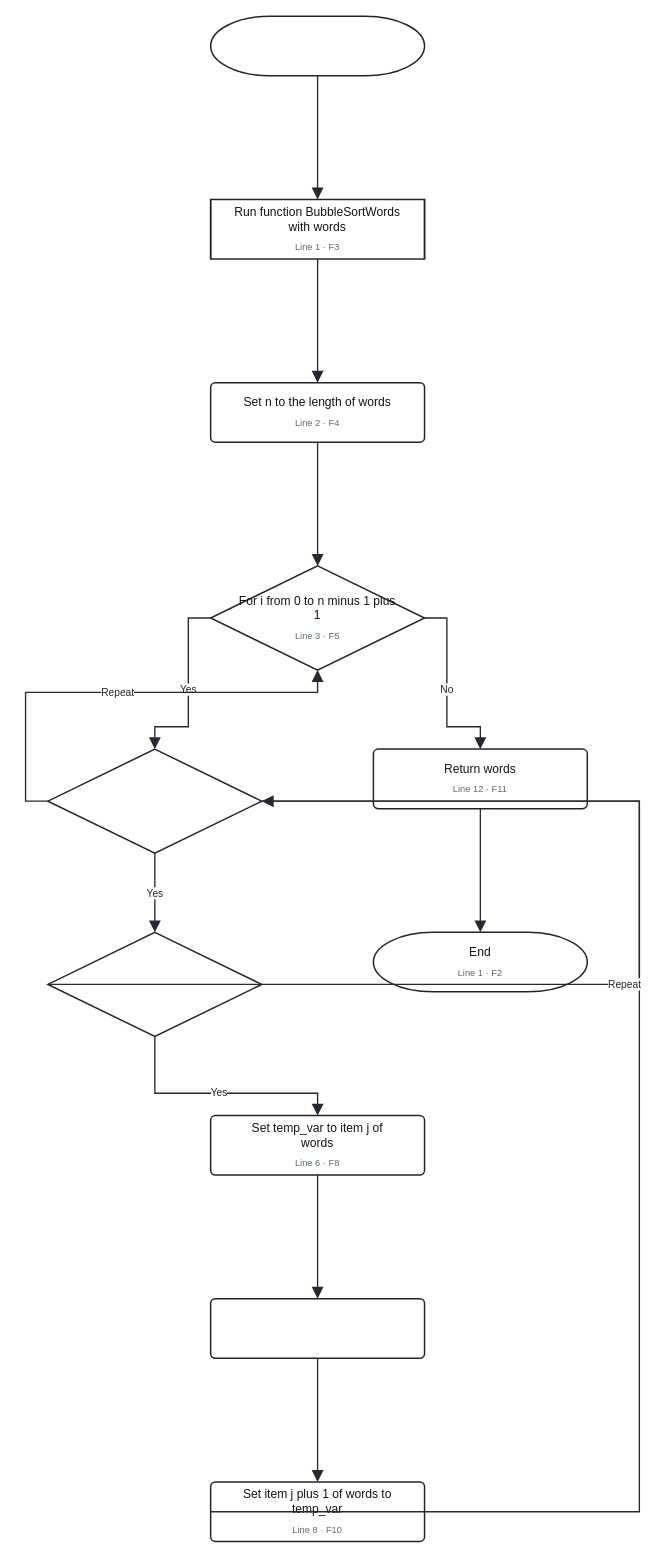
This 672x1559 diagram has some shape labels left out. The shapes that lost their labels are listed below. From the top down, each one's centre as x and y in pixels, then its label:
the point at 317,45: Start Line 1 · F1
the point at 154,801: For j from 0 to n minus i minus 2 plus 1 Line 4 · F6
the point at 154,984: Item j of words is greater than item j plus 1 of words? Line 5 · F7
the point at 317,1328: Set item j of words to item j plus 1 of words Line 7 · F9
